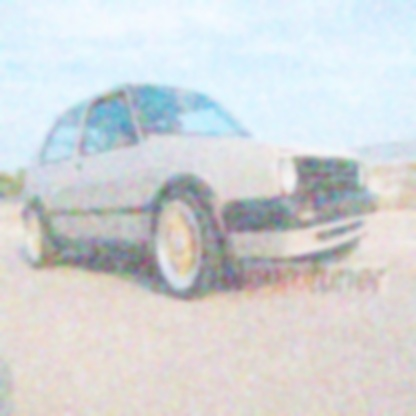Vehicle: (21, 82, 381, 301)
